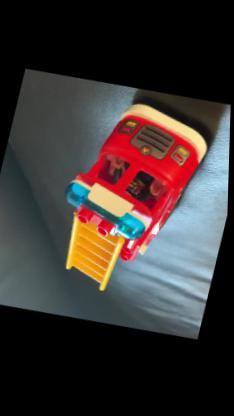lego fire truck: (44, 84, 221, 310)
